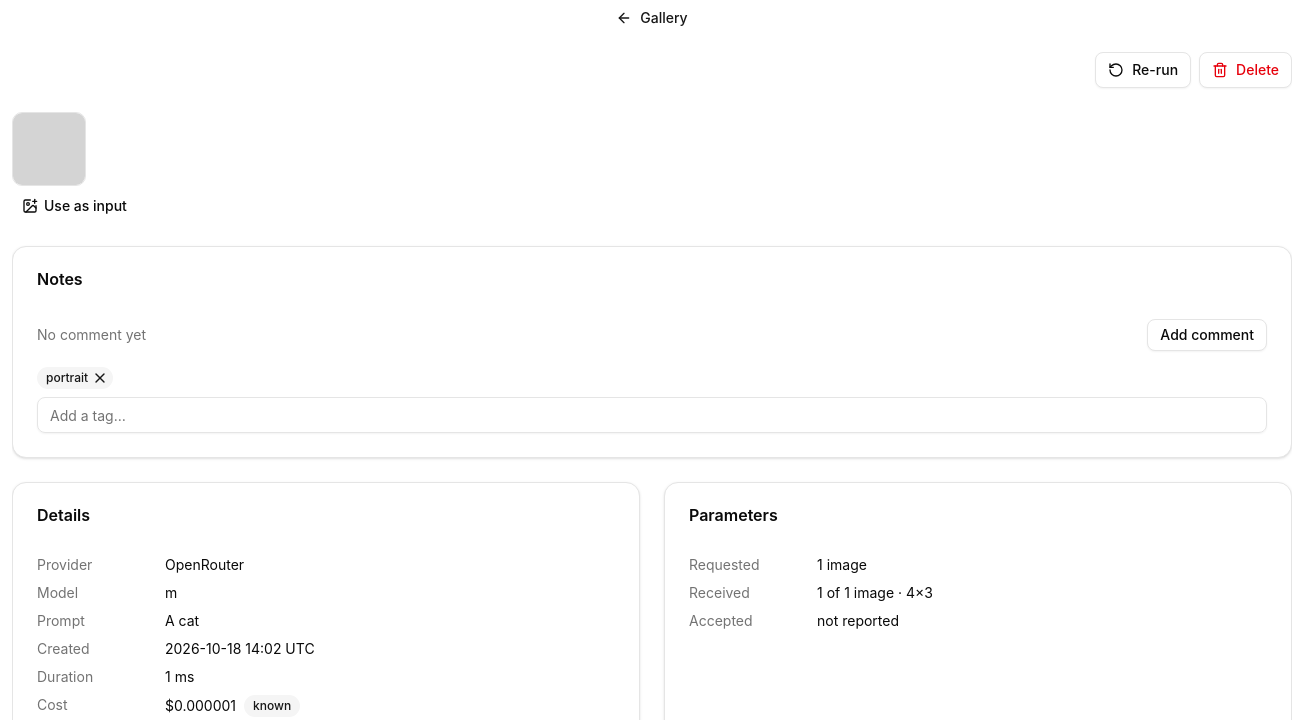
Notes card (SCR-02) › adds a tag on Enter, refuses bad text and an 11th tag, removes with ×
Type "a/b" into the field labelled "Add a tag".
click(652, 415); type("a/b")  # box [37,397,1267,433]
Press Enter in the field named "Add a tag", box [37,397,1267,433]
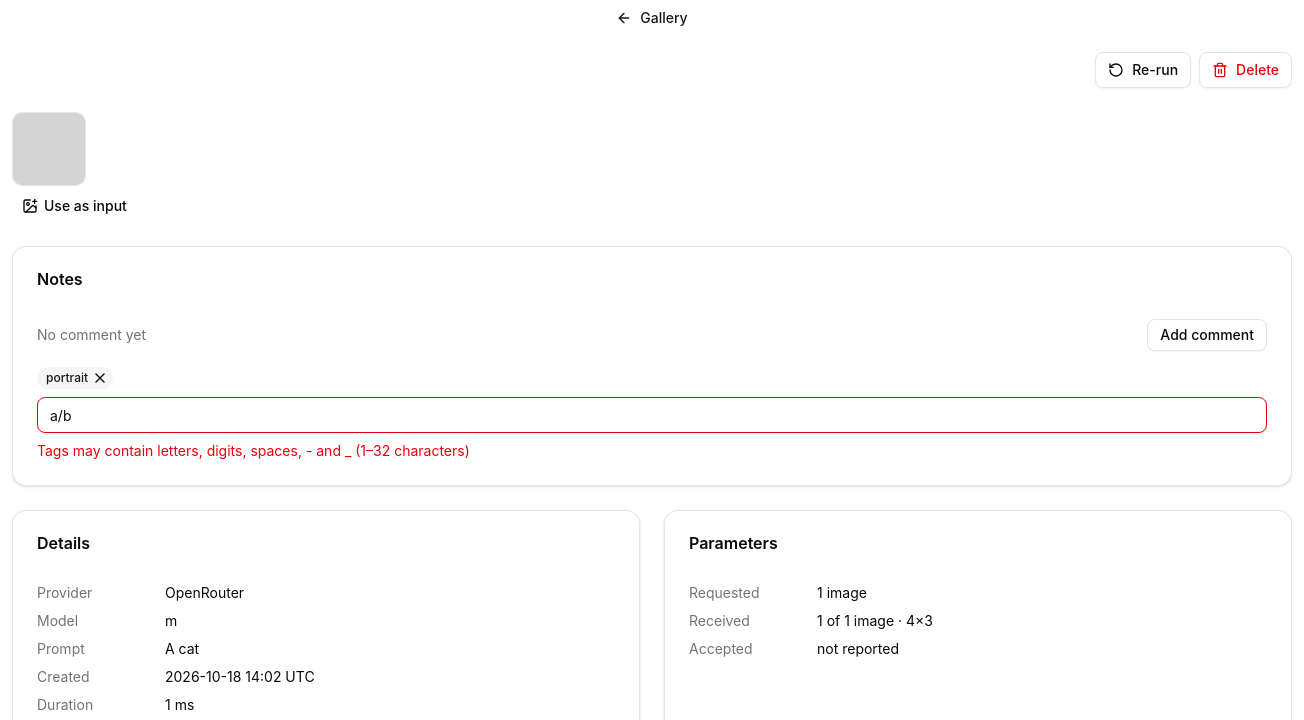
Check: the text "Tags may contain letters" is shown, box [37,442,470,459]
Replace the text in the field named "Add a tag" with " Neon  City " at (652, 415), box [37,397,1267,433]
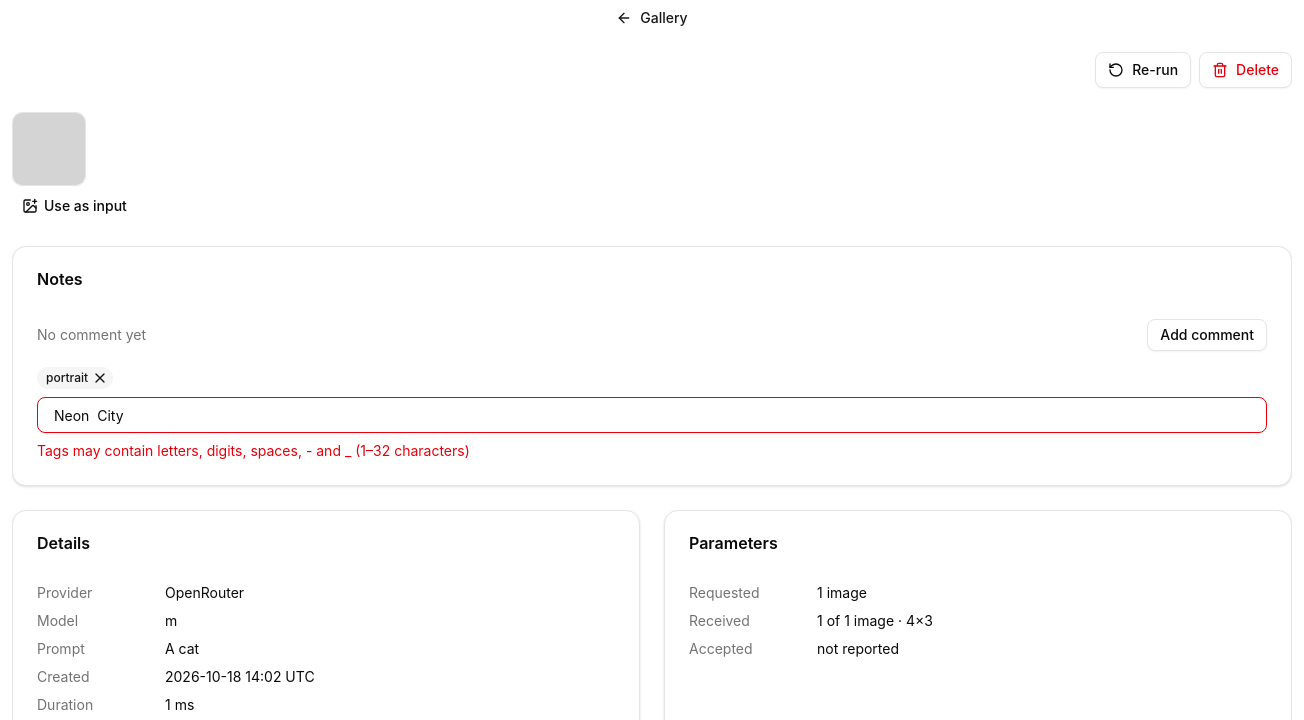
Press Enter in the field named "Add a tag", box [37,397,1267,433]
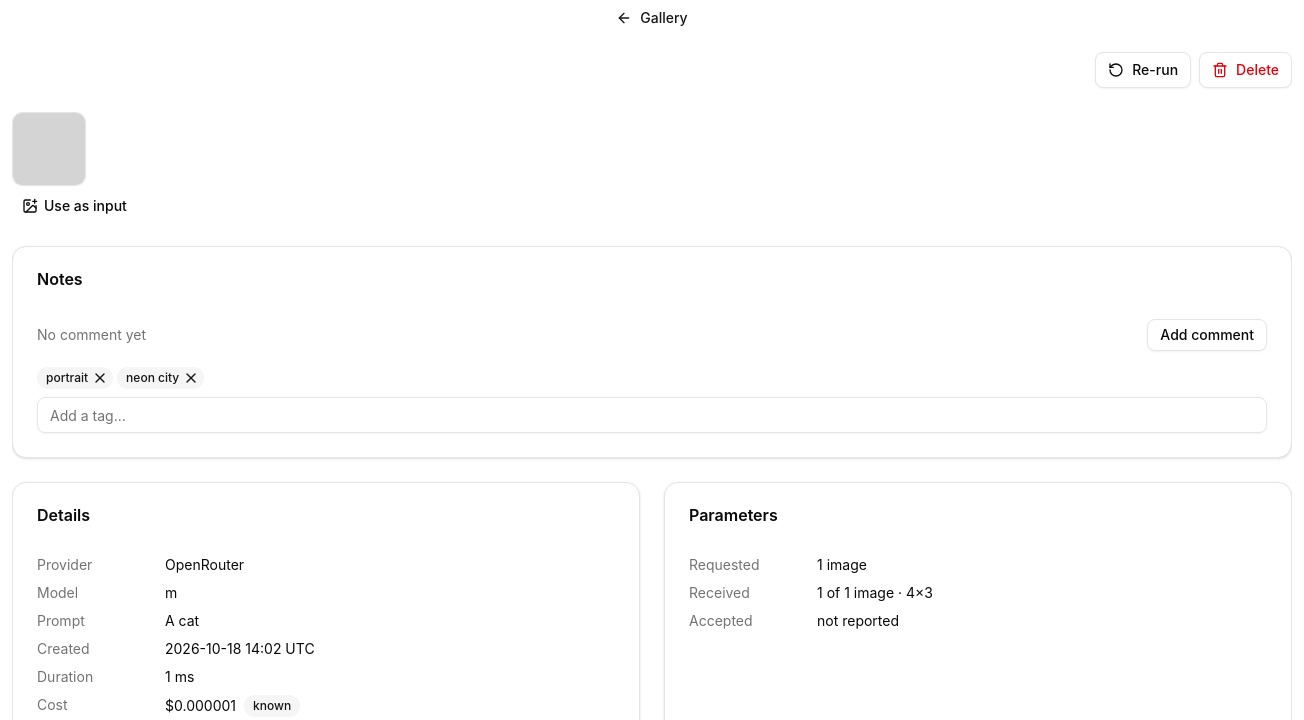
Check: the text "neon city" is shown, box [117,367,204,389]
Check: the field labelled "Add a tag" is empty
Type "eleven" into the field labelled "Add a tag".
click(652, 415); type("eleven")  # box [37,397,1267,433]
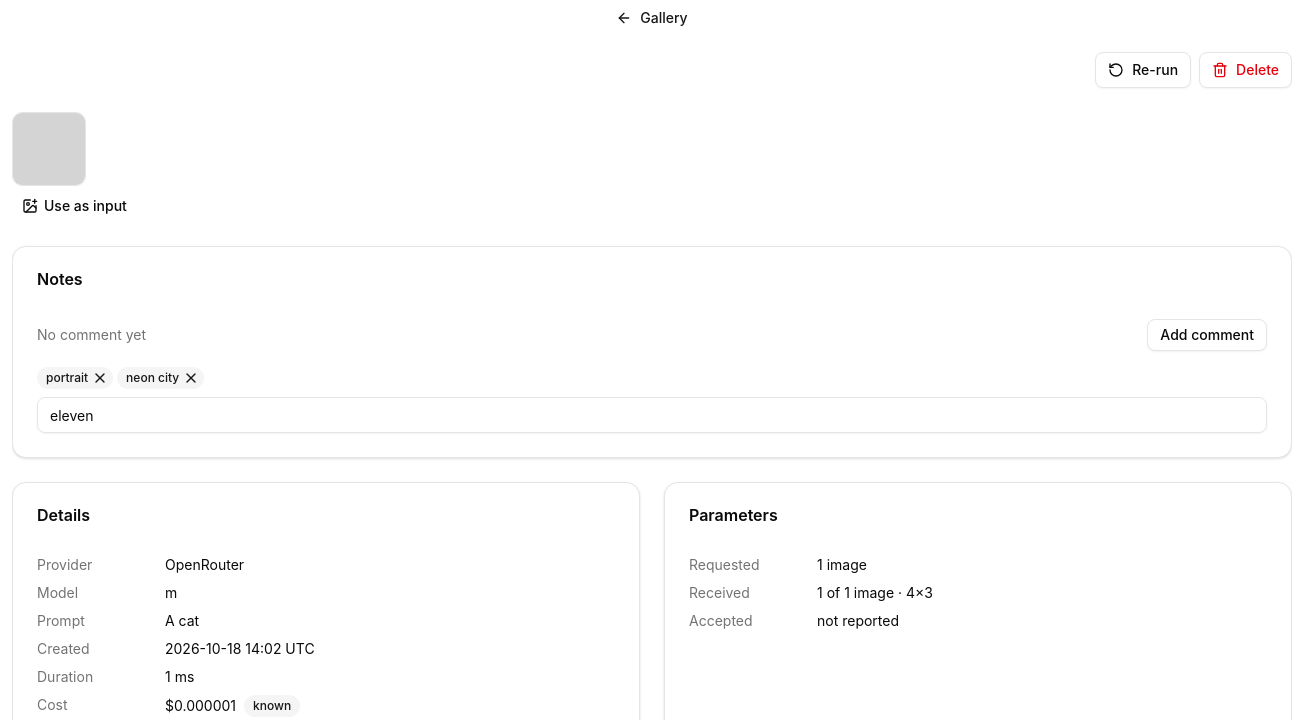
Press Enter in the field named "Add a tag", box [37,397,1267,433]
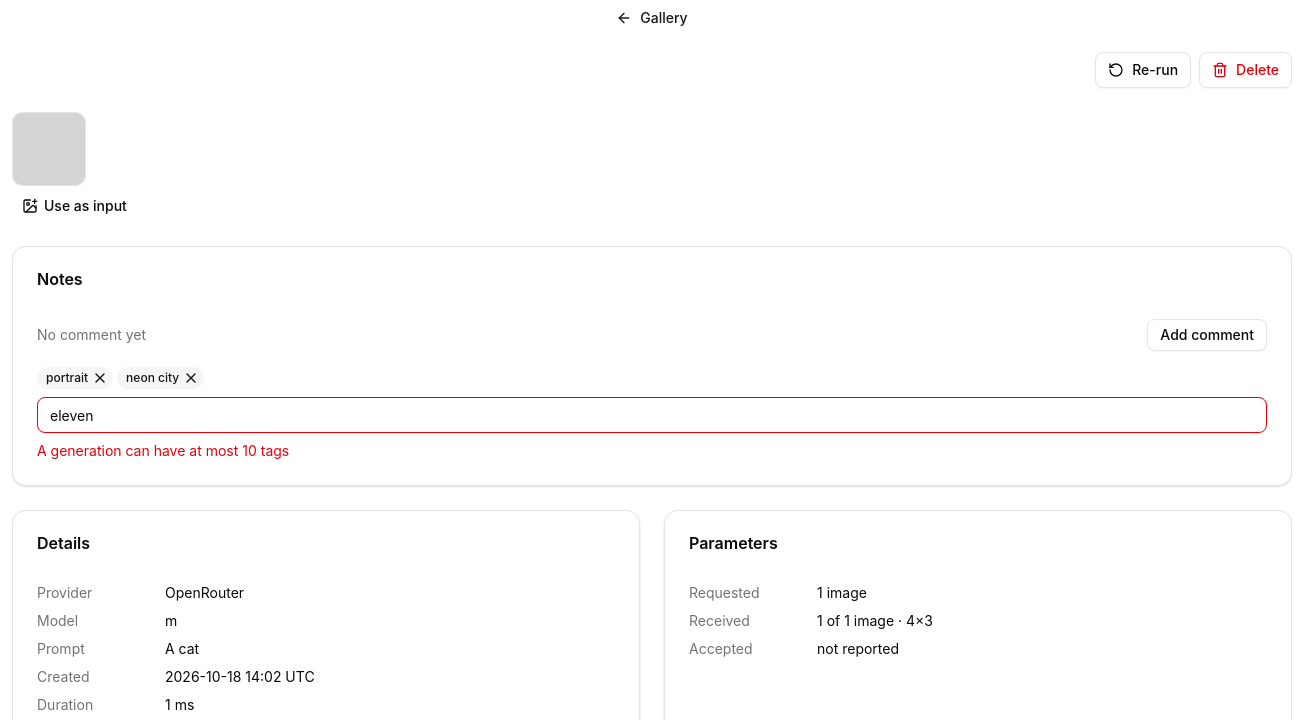
Check: the text "A generation can have at most 10 tags" is shown, box [37,442,289,459]
Click the button named "Remove tag portrait".
click(100, 378)  # box [92,370,108,386]
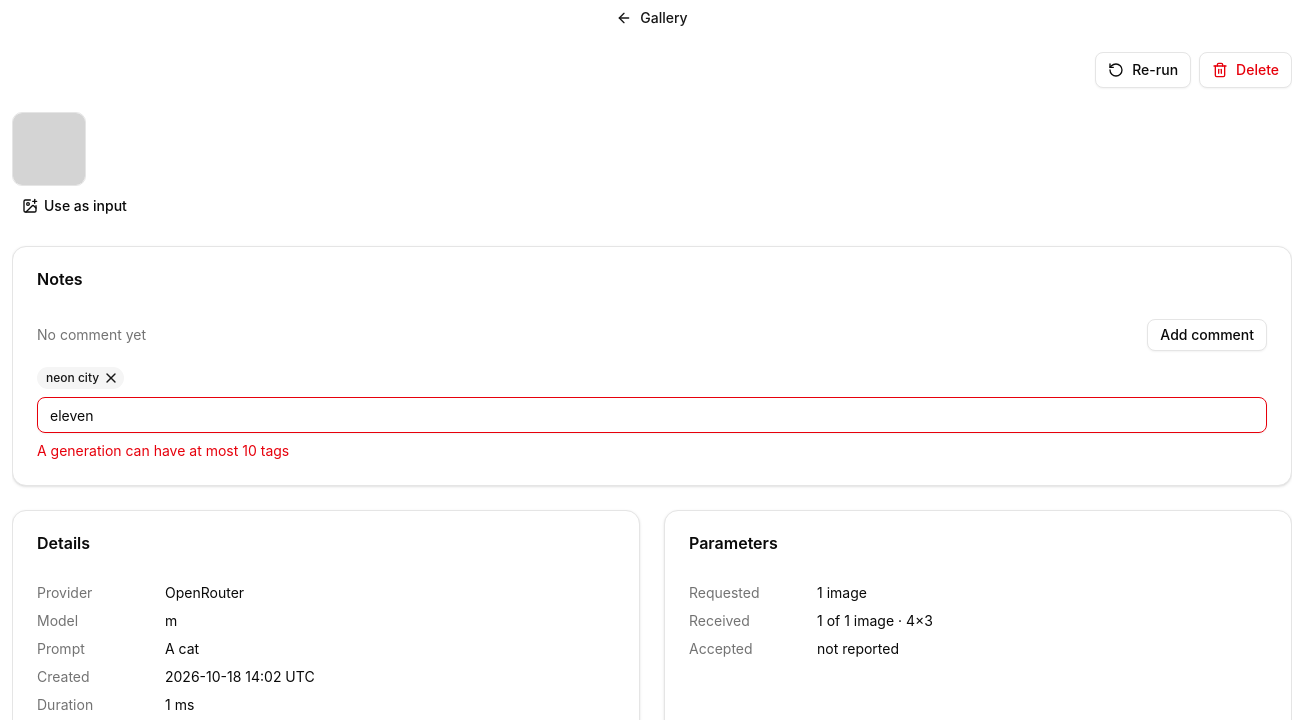
Check: the text "portrait" is gone
